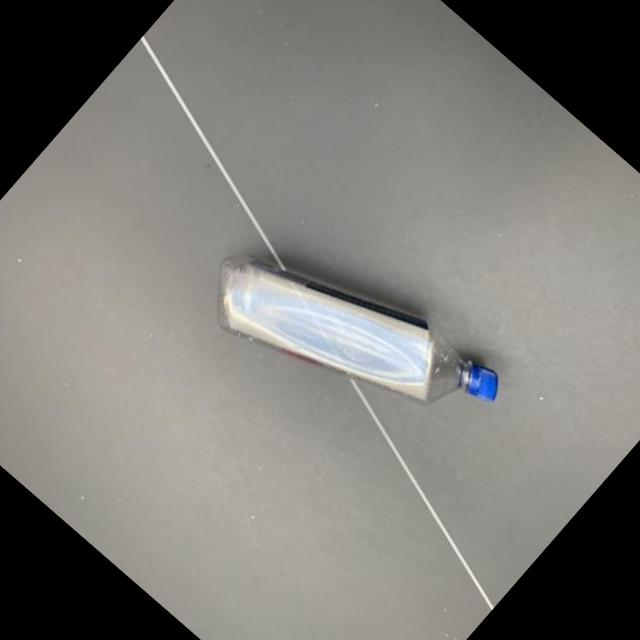BotolPlastik: (186, 188, 510, 497)
